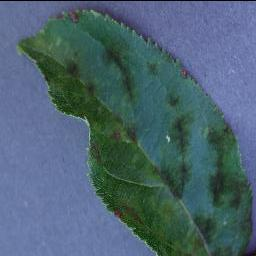apple healthy: (16, 7, 255, 255)
